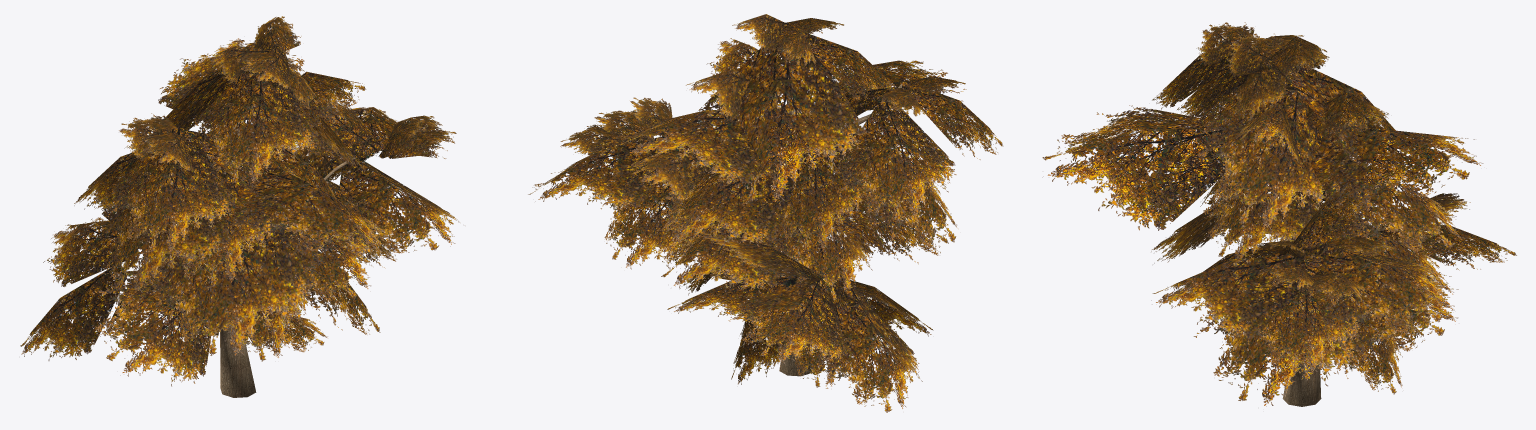
File: TREE1.fbx
3 views of the same model, side by side, from view 1: azimuth 30°, elevation 25°; view 2: azimuth 150°, elevation 25°; view 3: azimuth 270°, elevation 25° (orthographic). The views are drawn at different scales.
Visible parts, largest first — view 1: Cylinder; view 2: Cylinder; view 3: Cylinder.
Boxes of the visible parts, left/top/right/bottom form: Cylinder: left=20, top=16, right=459, bottom=397; Cylinder: left=528, top=14, right=1003, bottom=412; Cylinder: left=1042, top=22, right=1516, bottom=406.
Size of the model in its own units: 6998 by 5603 by 6616.
